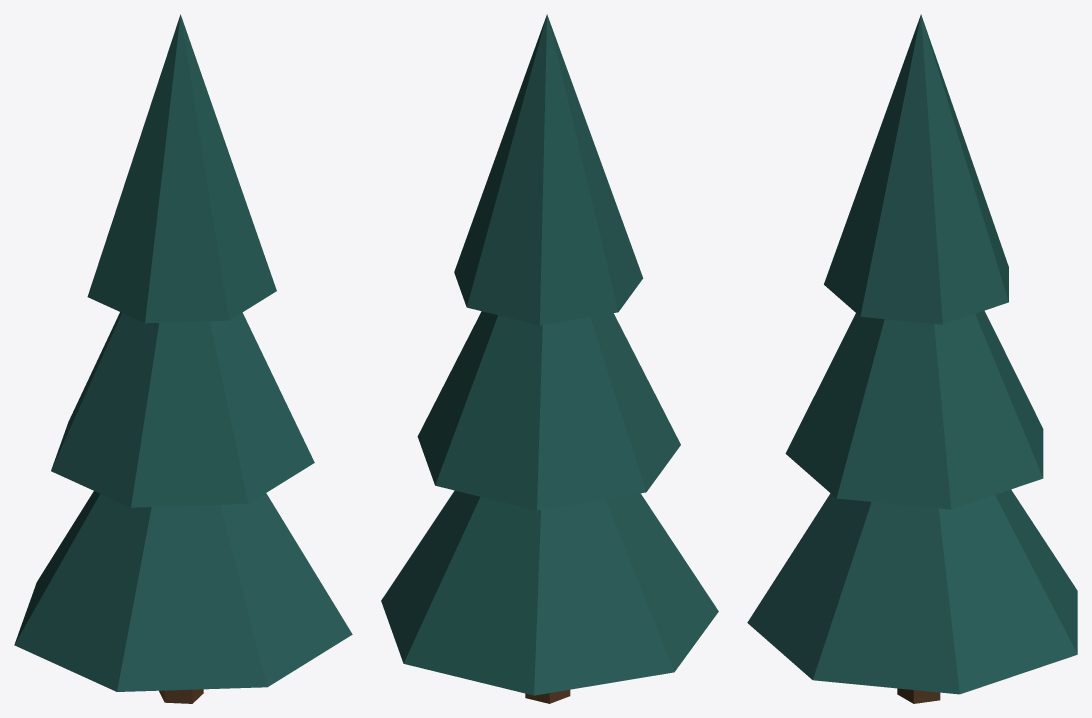
File: land_tree_arctic_spruce.glb
The picture shows the model from 3 angles, left to right: view 1: azimuth 30°, elevation 25°; view 2: azimuth 150°, elevation 25°; view 3: azimuth 270°, elevation 25°; orthographic projection.
Size of the model in its own units: 4.29 by 9.5 by 4.18.
